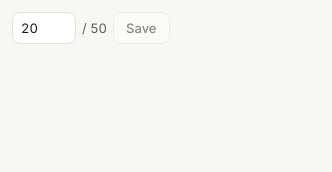
Test: DailyCapInput › clamps any value above 50 to the ceiling and never saves more than 50
The width and height of the screenshot is (332, 172).
Later steps or results of the test are not shown.
Replace the text in the number field named "Daily cap" with "120" at (44, 28), box [12, 12, 76, 44]
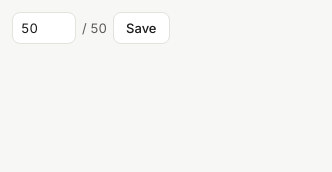
Check: the number field named "Daily cap" holds "50", box [12, 12, 76, 44]
